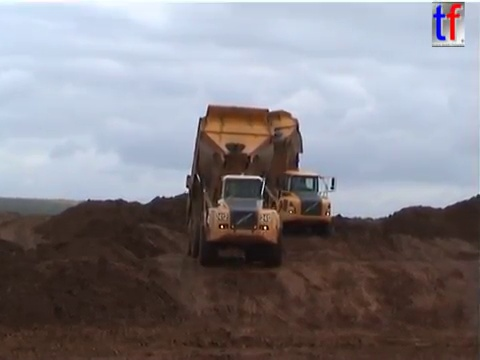truck: (183, 102, 288, 268), (242, 108, 338, 240)
